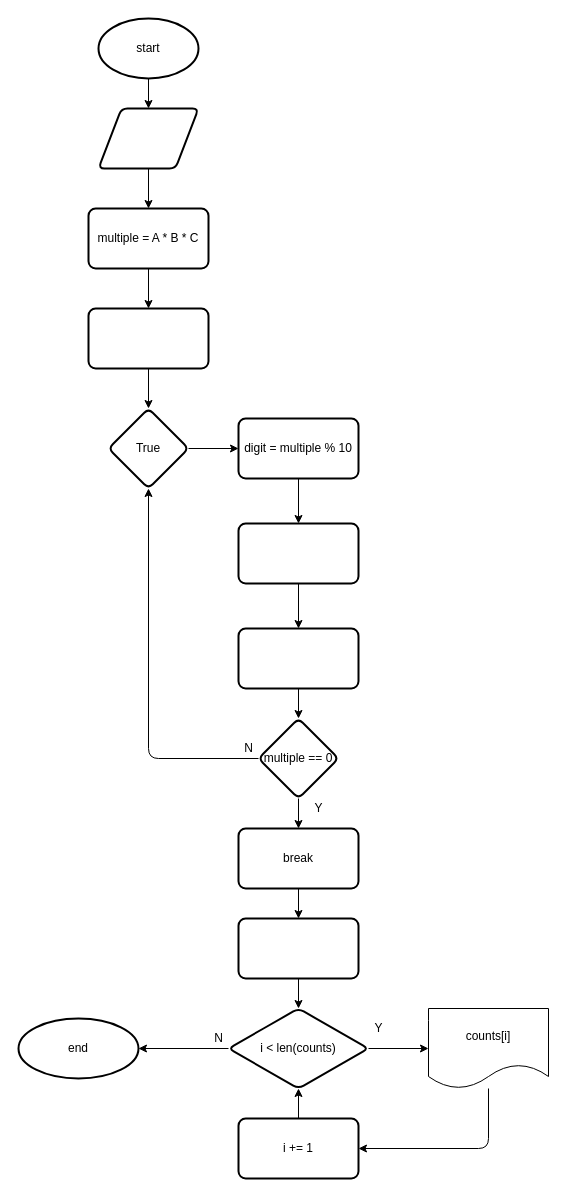
Some shapes in this 566 by 1196 pixel diagram are drawn without their labels. The shapes that lost their labels are listed below. From the top down, each one's centre as x and y in pixels, then its label:
(x=148, y=138): A, B, C
(x=148, y=338): counts = [0] * 10
(x=298, y=553): counts[digit] += 1
(x=298, y=658): multiple //= 10
(x=298, y=948): i = 0
